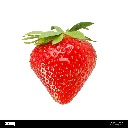strawberry: (22, 25, 101, 105)
